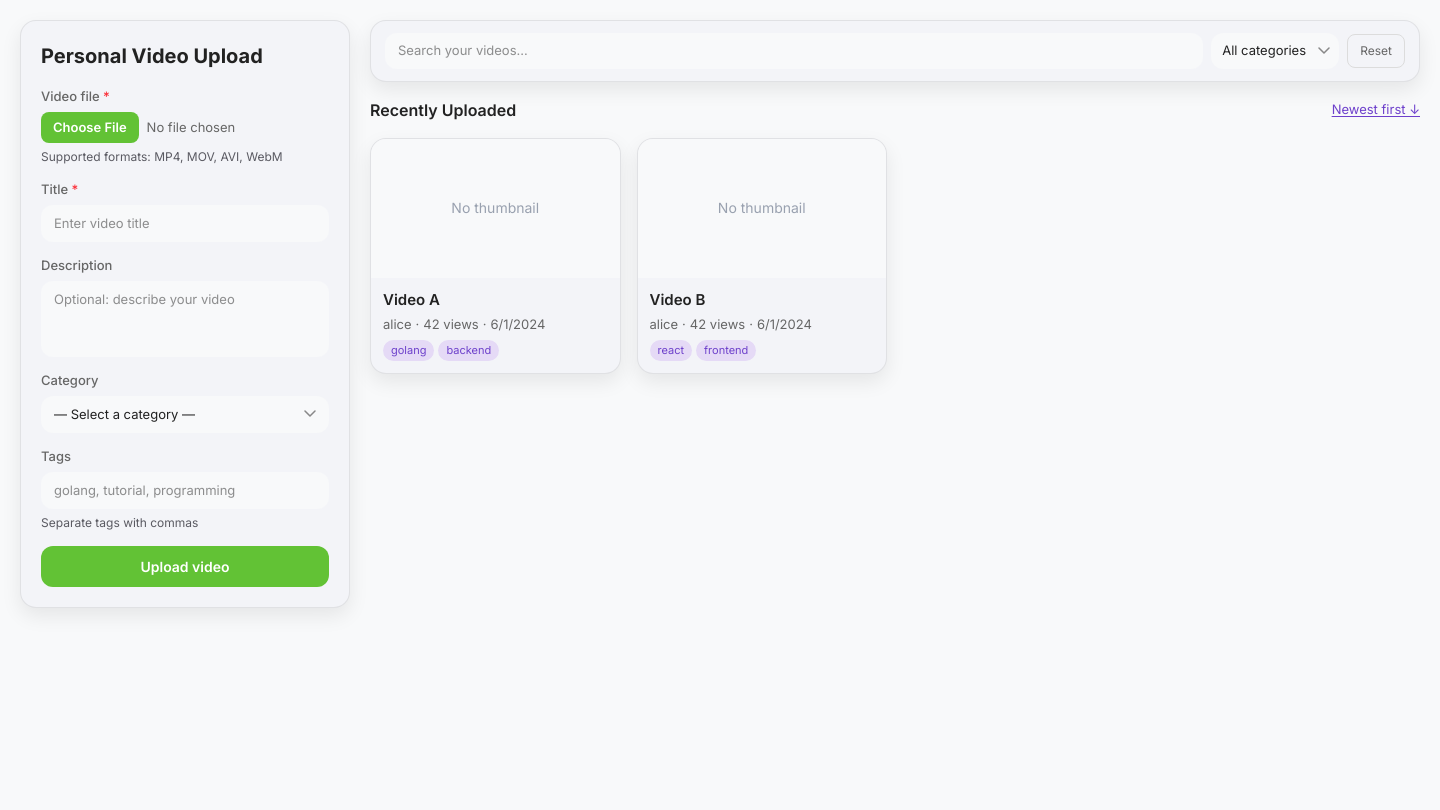
Scenario: UploadPage › filters videos by search query (tag match)
Expected: the link "Video A" is shown, [383,290,440,309]
In the search field named "search videos": point(794, 51) [385,33,1203,68], type "golang"
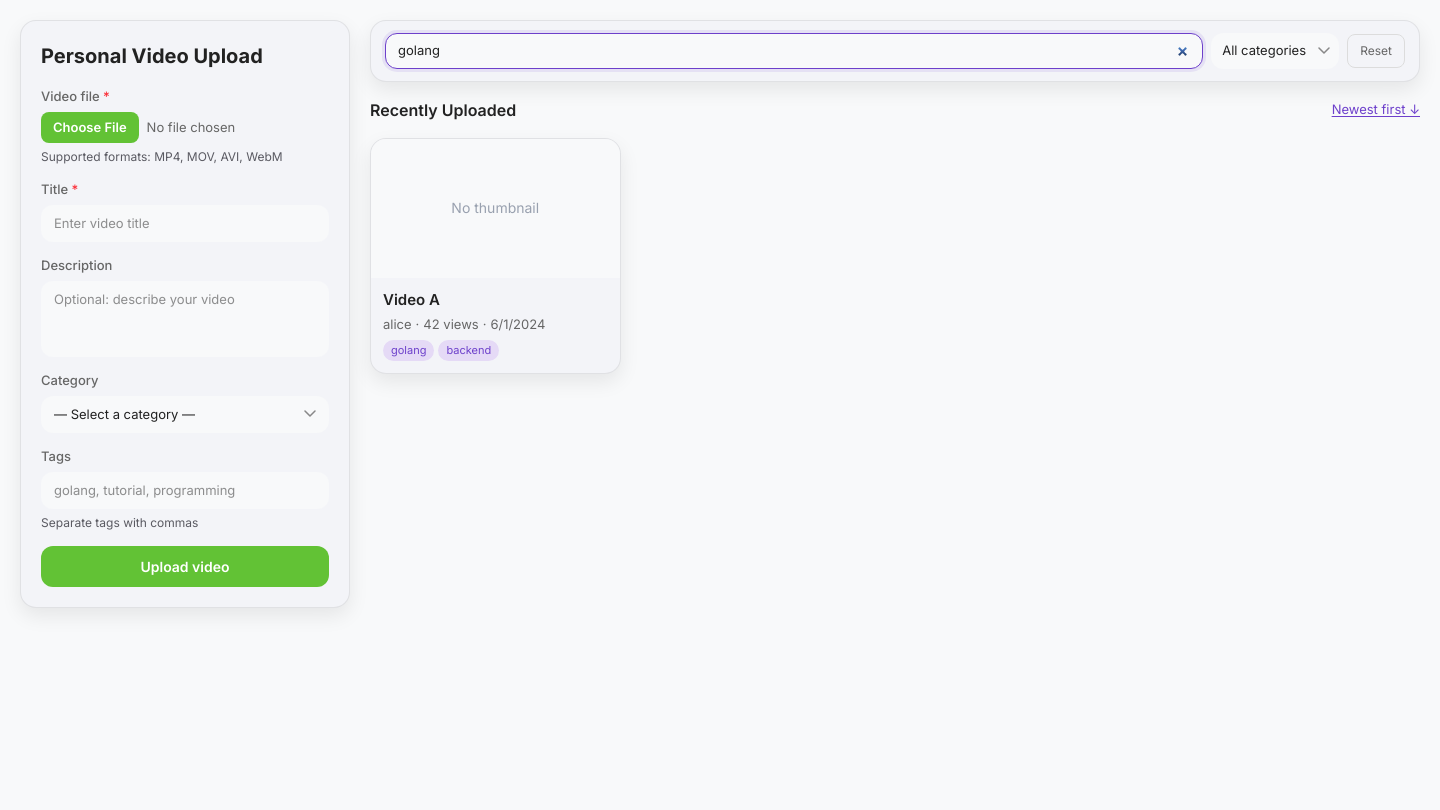
Expected: the link "Video A" is shown, [383,290,440,309]
Expected: the link "Video B" is gone
